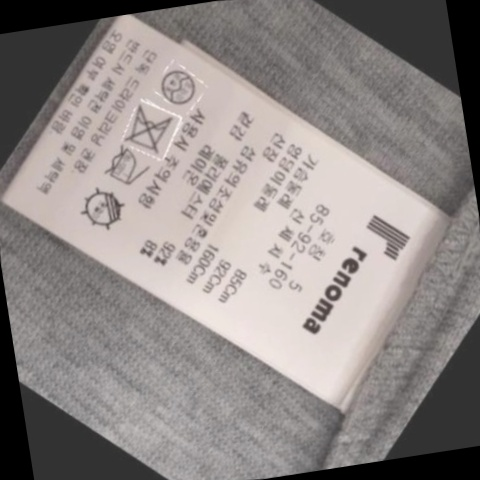DN_wash: (120, 100, 184, 158)
dry_clean_petrol_only: (154, 60, 205, 111)
iron_low: (97, 142, 154, 194)
line_dry_in_shade: (76, 182, 137, 236)
